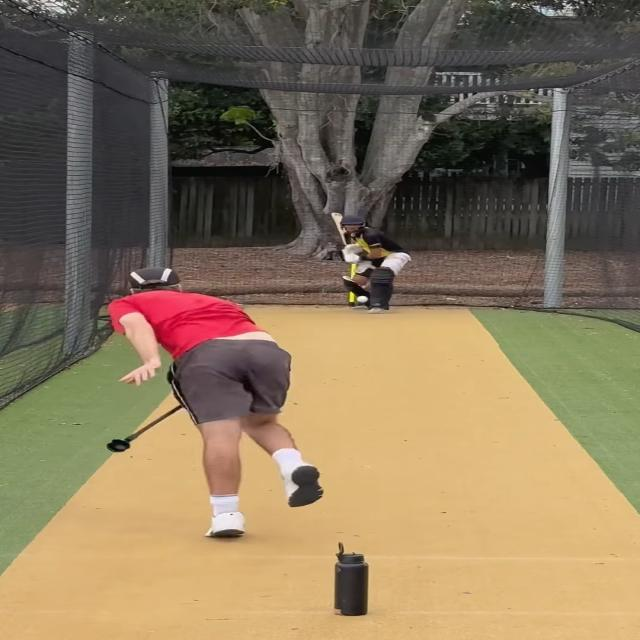Cricket ball: (356, 294, 370, 304)
